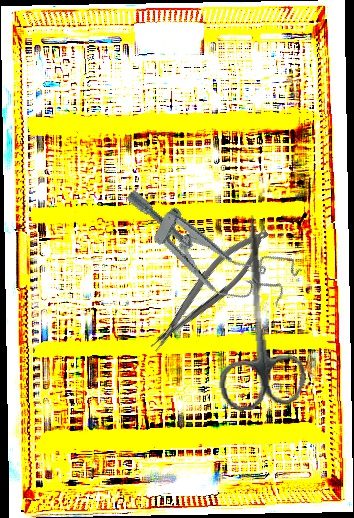Iris Scissors: (204, 211, 310, 413)
Needle Holder: (138, 220, 279, 358)
Speculum: (107, 176, 305, 324)
